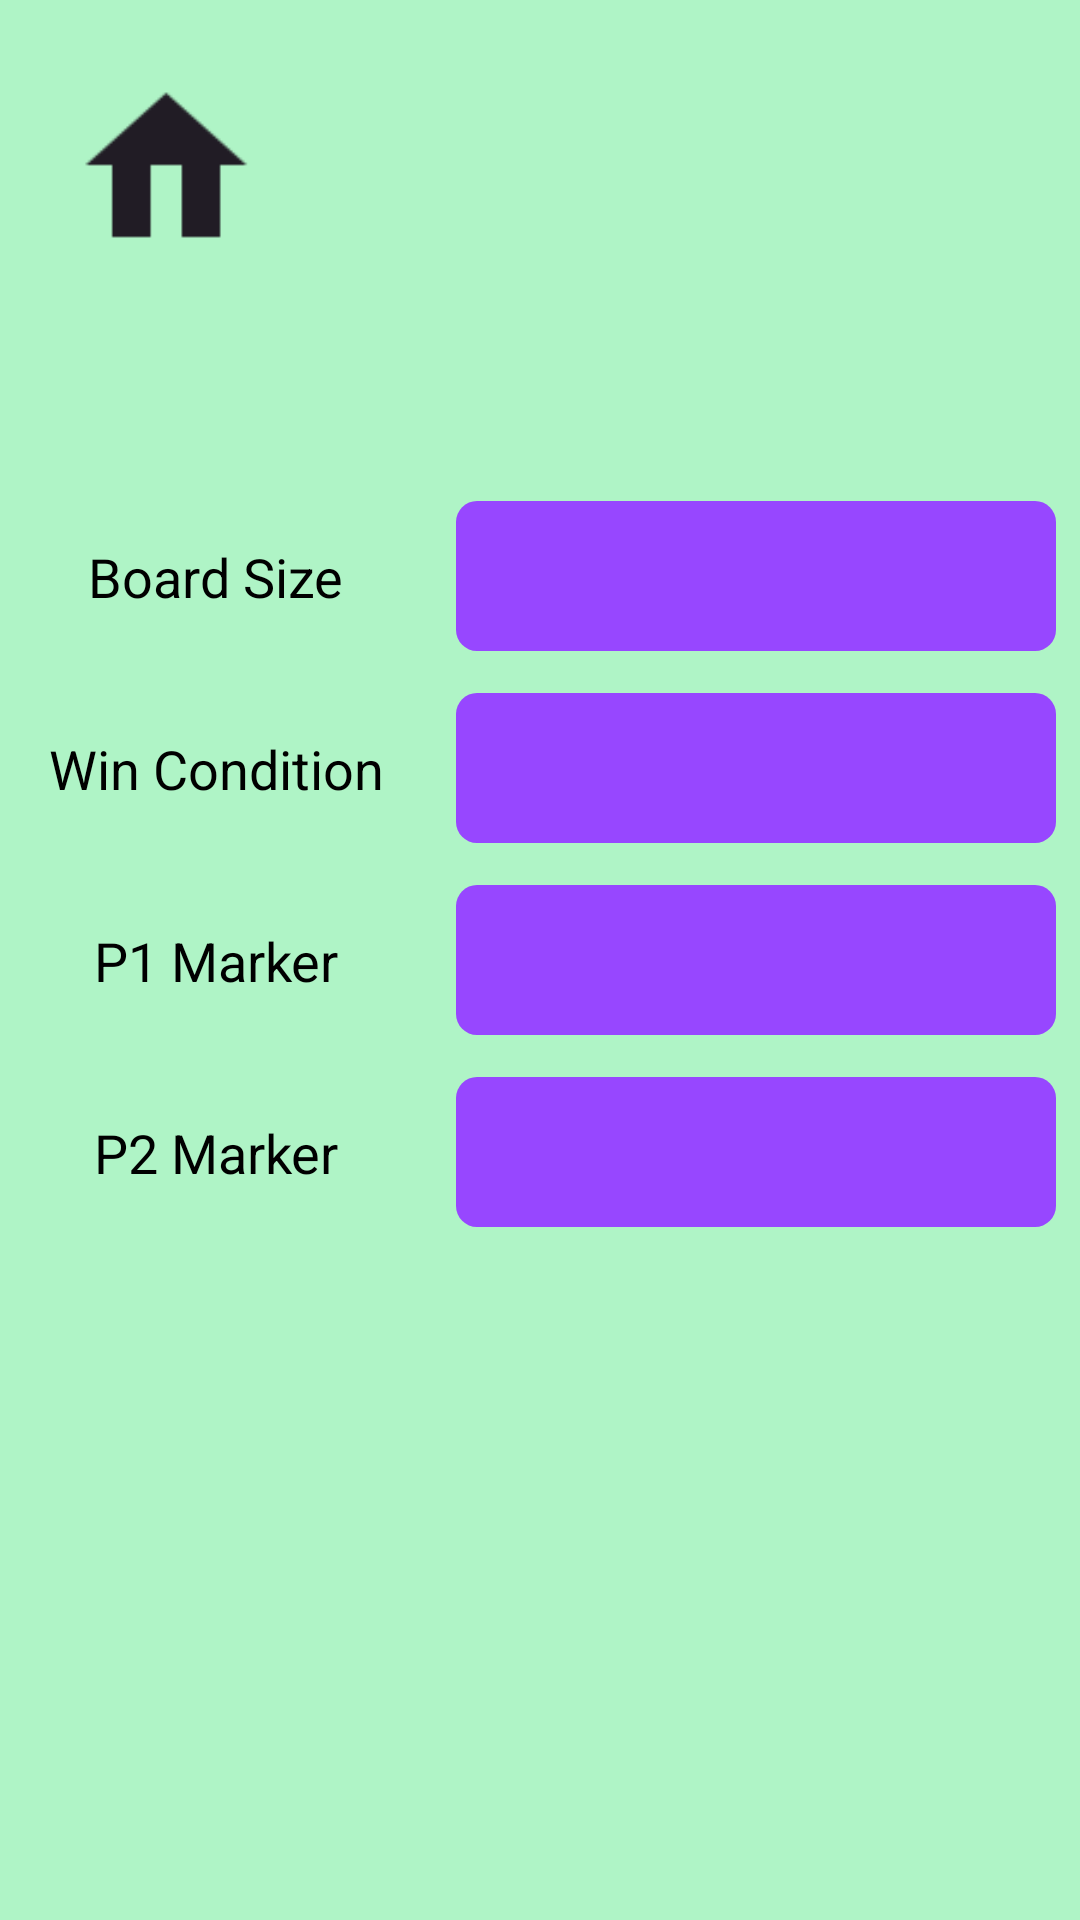

Named icons in this screenshot (1080 × 1920) and their centers, (x=x, y=y):
home: (x=166, y=165)
